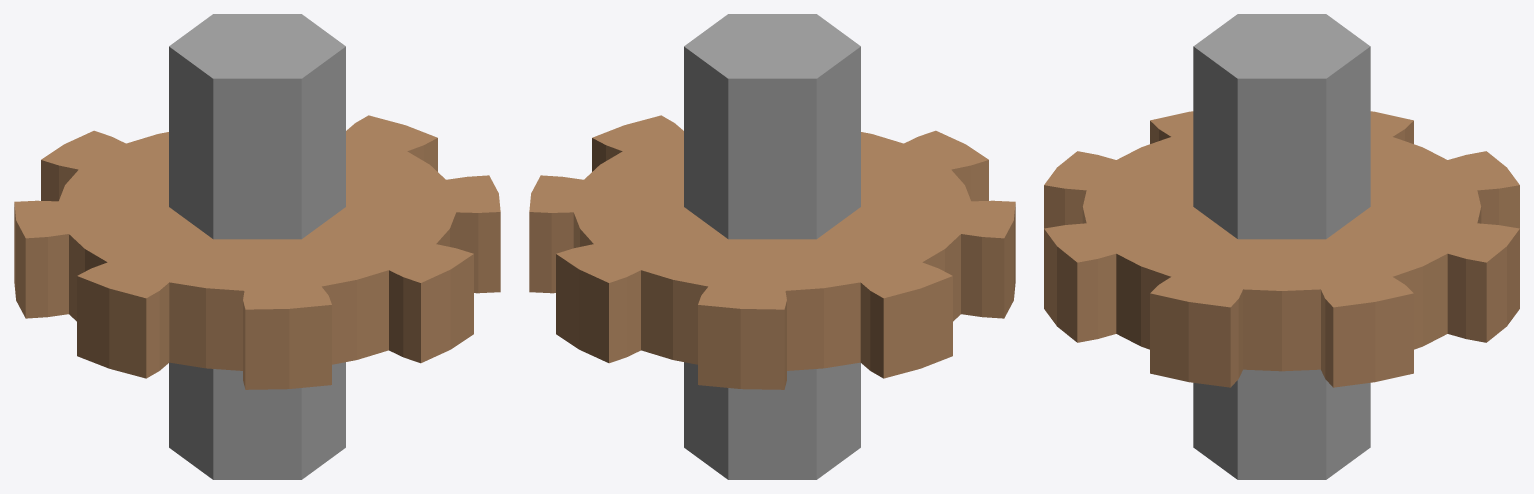
Rendered from cog_small.glb.
The picture shows the model from 3 angles, left to right: view 1: azimuth 30°, elevation 25°; view 2: azimuth 150°, elevation 25°; view 3: azimuth 270°, elevation 25°; orthographic projection.
Visible parts, largest first — view 1: Gear; view 2: Gear; view 3: Gear.
Part boxes in pixels (bbox=[...]): Gear: bbox=[14, 14, 500, 479]; Gear: bbox=[529, 14, 1015, 479]; Gear: bbox=[1044, 14, 1519, 479].
Size of the model in its own units: 1.08 by 1 by 1.08.
